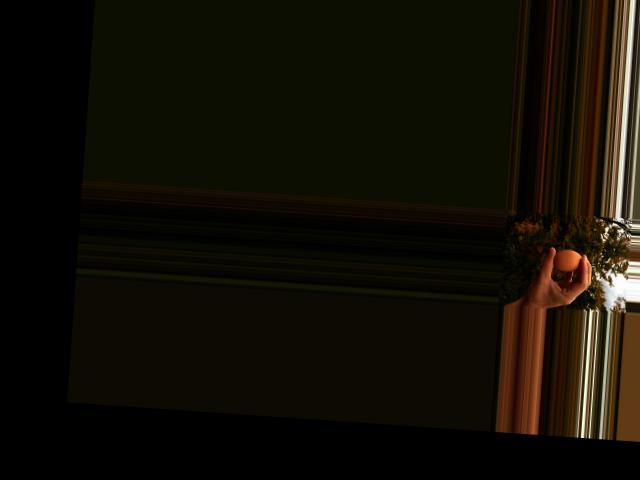egg: (552, 248, 583, 272)
